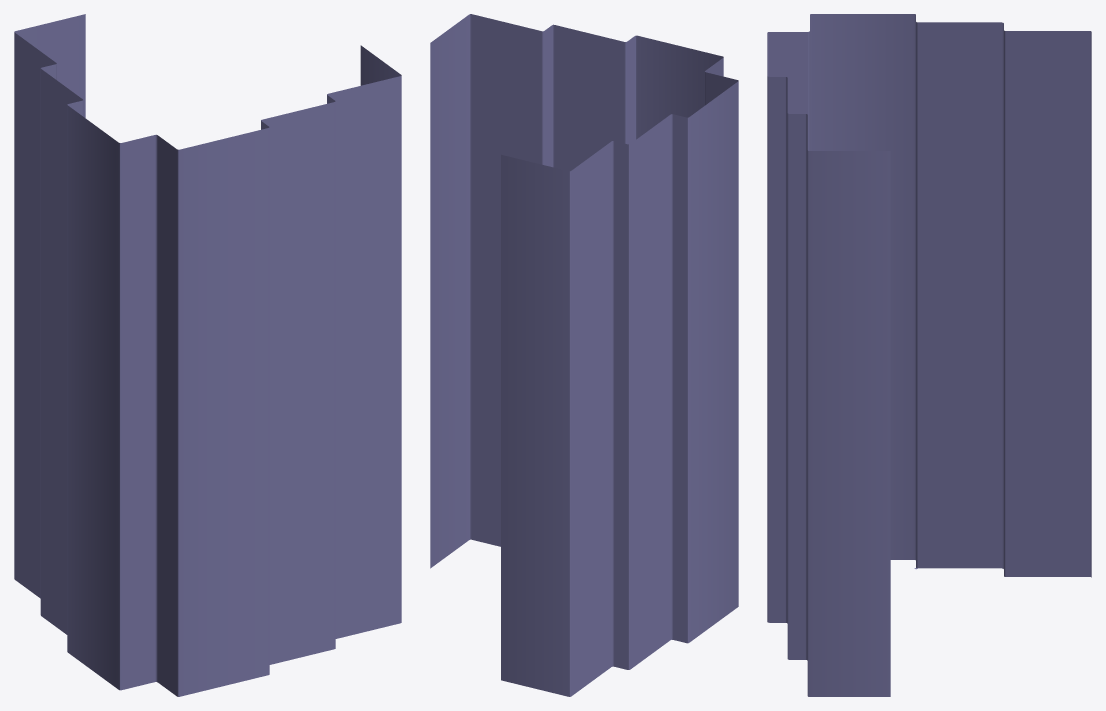
Rendered from M_A_corner_02.fbx.
3 views of the same model, side by side, from view 1: azimuth 30°, elevation 25°; view 2: azimuth 150°, elevation 25°; view 3: azimuth 270°, elevation 25° (orthographic). The views are drawn at different scales.
Parts seen in each view (by area): view 1: M_A_corner_02; view 2: M_A_corner_02; view 3: M_A_corner_02.
Part boxes in pixels (<box>): M_A_corner_02: <box>14,14,401,696</box>; M_A_corner_02: <box>430,14,738,696</box>; M_A_corner_02: <box>767,14,1091,696</box>.
Size of the model in its own units: 161 by 300 by 161.
